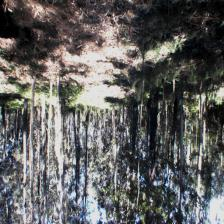trunktrack_idkeyframe: (30, 77, 36, 143), (23, 98, 29, 147)
